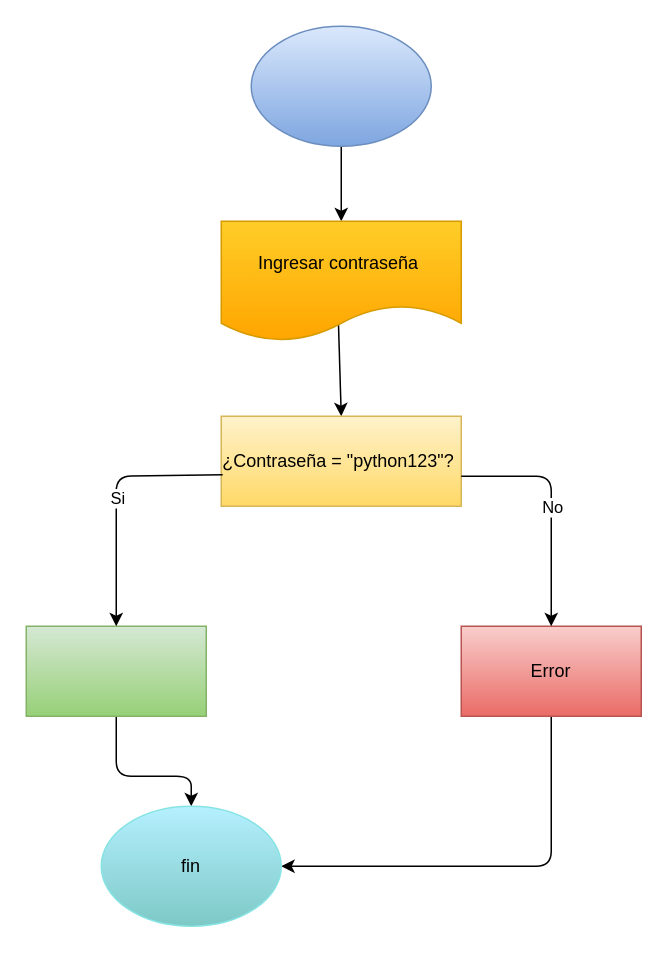
This 668x953 diagram has some shape labels left out. Each missing label, with the centre of its shape:
"Acceso concedido" belongs at point 115,670.
"inicio" belongs at point 340,85.
